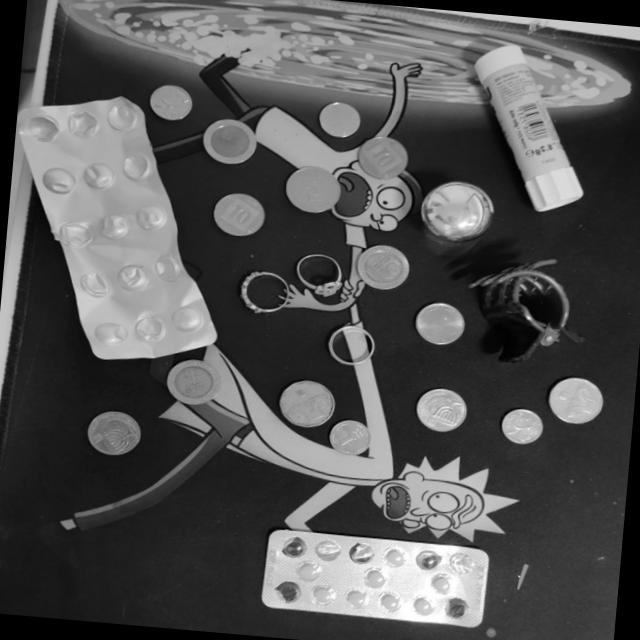1-shekel: (320, 416, 378, 466), (310, 95, 366, 145), (496, 404, 549, 455), (143, 80, 194, 128)
10-shekel: (196, 112, 263, 176), (162, 351, 226, 413), (351, 240, 411, 298)
2-shekel: (412, 302, 469, 350)
5-shekel: (269, 376, 344, 432), (280, 165, 346, 218), (544, 378, 602, 434)
